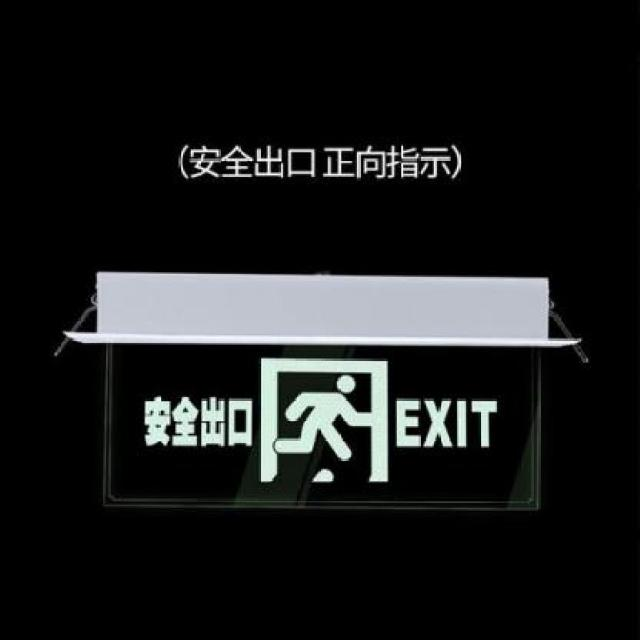exit_sign: (97, 319, 551, 523)
